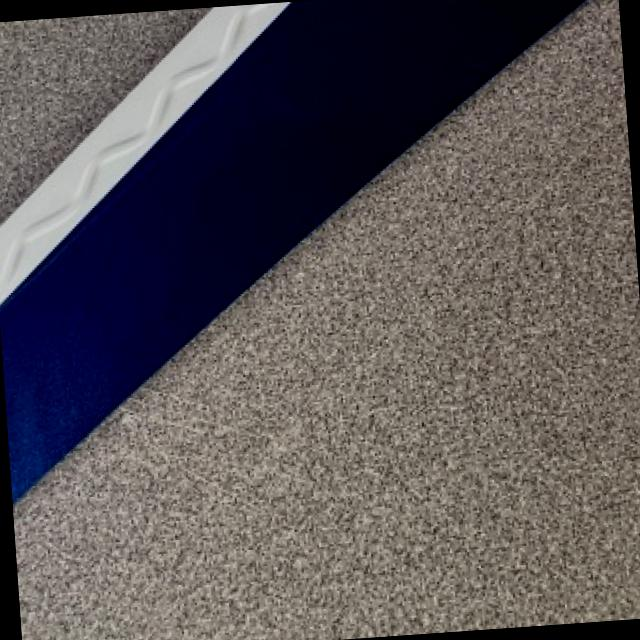healthy: (14, 0, 640, 640)
